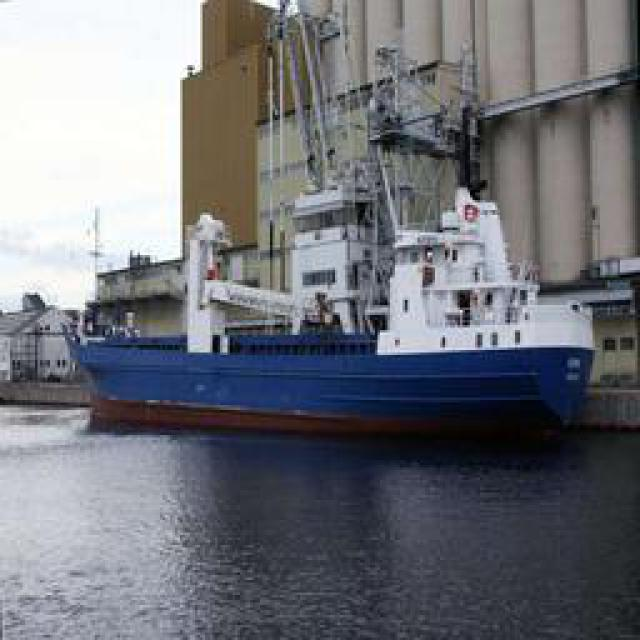Ship: (80, 97, 598, 427)
